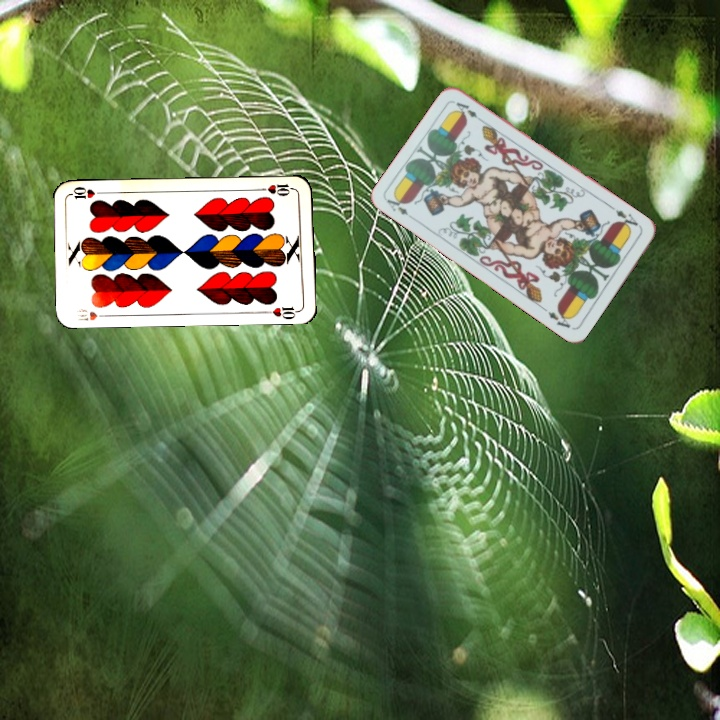EA: (608, 203, 644, 233), (382, 192, 411, 218)
H10: (257, 179, 297, 199), (75, 307, 111, 323)
